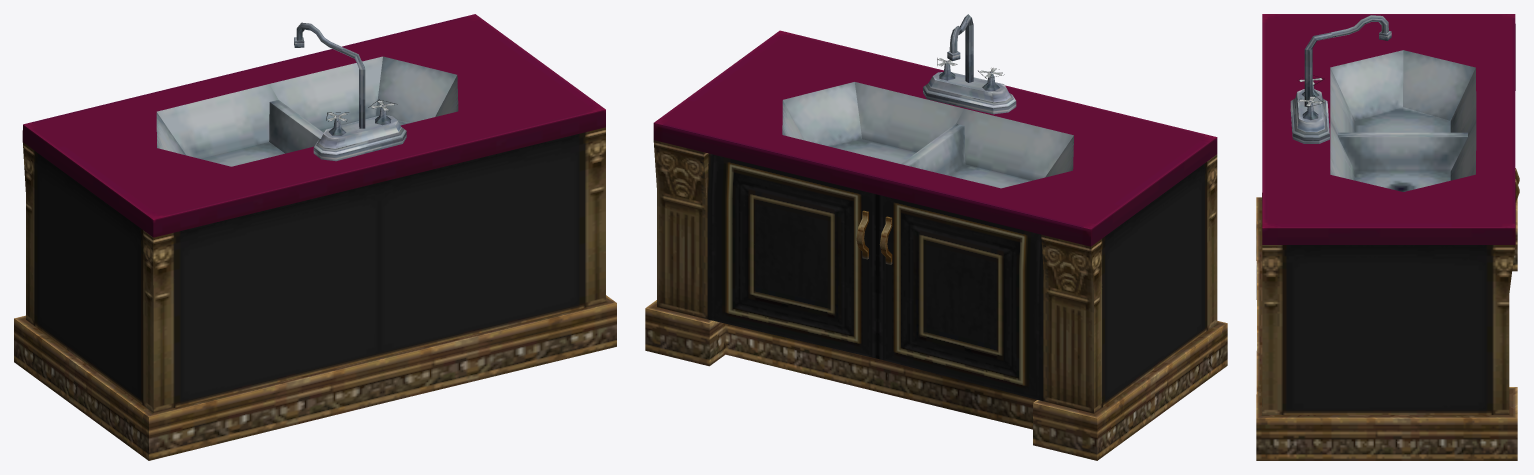
The model's file is furni_0200327_01.FBX.
3 views of the same model, side by side, from view 1: azimuth 30°, elevation 25°; view 2: azimuth 150°, elevation 25°; view 3: azimuth 270°, elevation 25° (orthographic). The views are drawn at different scales.
Parts seen in each view (by area): view 1: furni_0200327_01; view 2: furni_0200327_01; view 3: furni_0200327_01.
Part boxes in pixels (x1,y1,x2,y2): furni_0200327_01: [14, 14, 616, 460]; furni_0200327_01: [645, 14, 1227, 460]; furni_0200327_01: [1256, 14, 1519, 460].
Size of the model in its own units: 165 by 115 by 83.25.
Materials: 1 (1 with a texture image).
